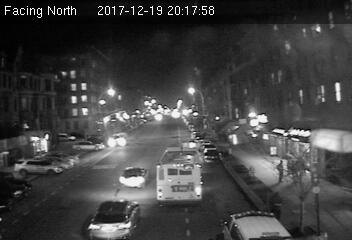bus: (155, 144, 204, 204)
car: (85, 198, 141, 240), (120, 167, 149, 188), (108, 134, 129, 147), (203, 149, 220, 164)
police: (221, 206, 291, 240)
